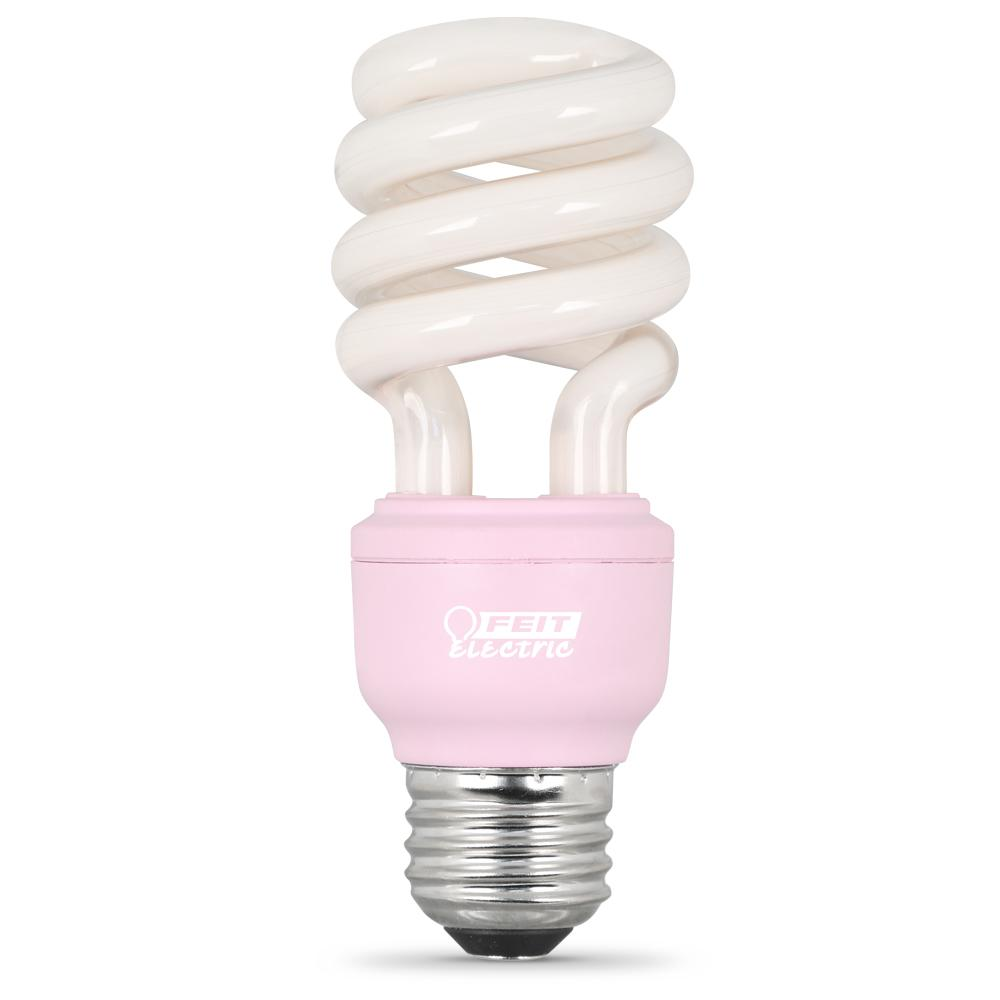Nonrec_Glass: (280, 8, 713, 943)
